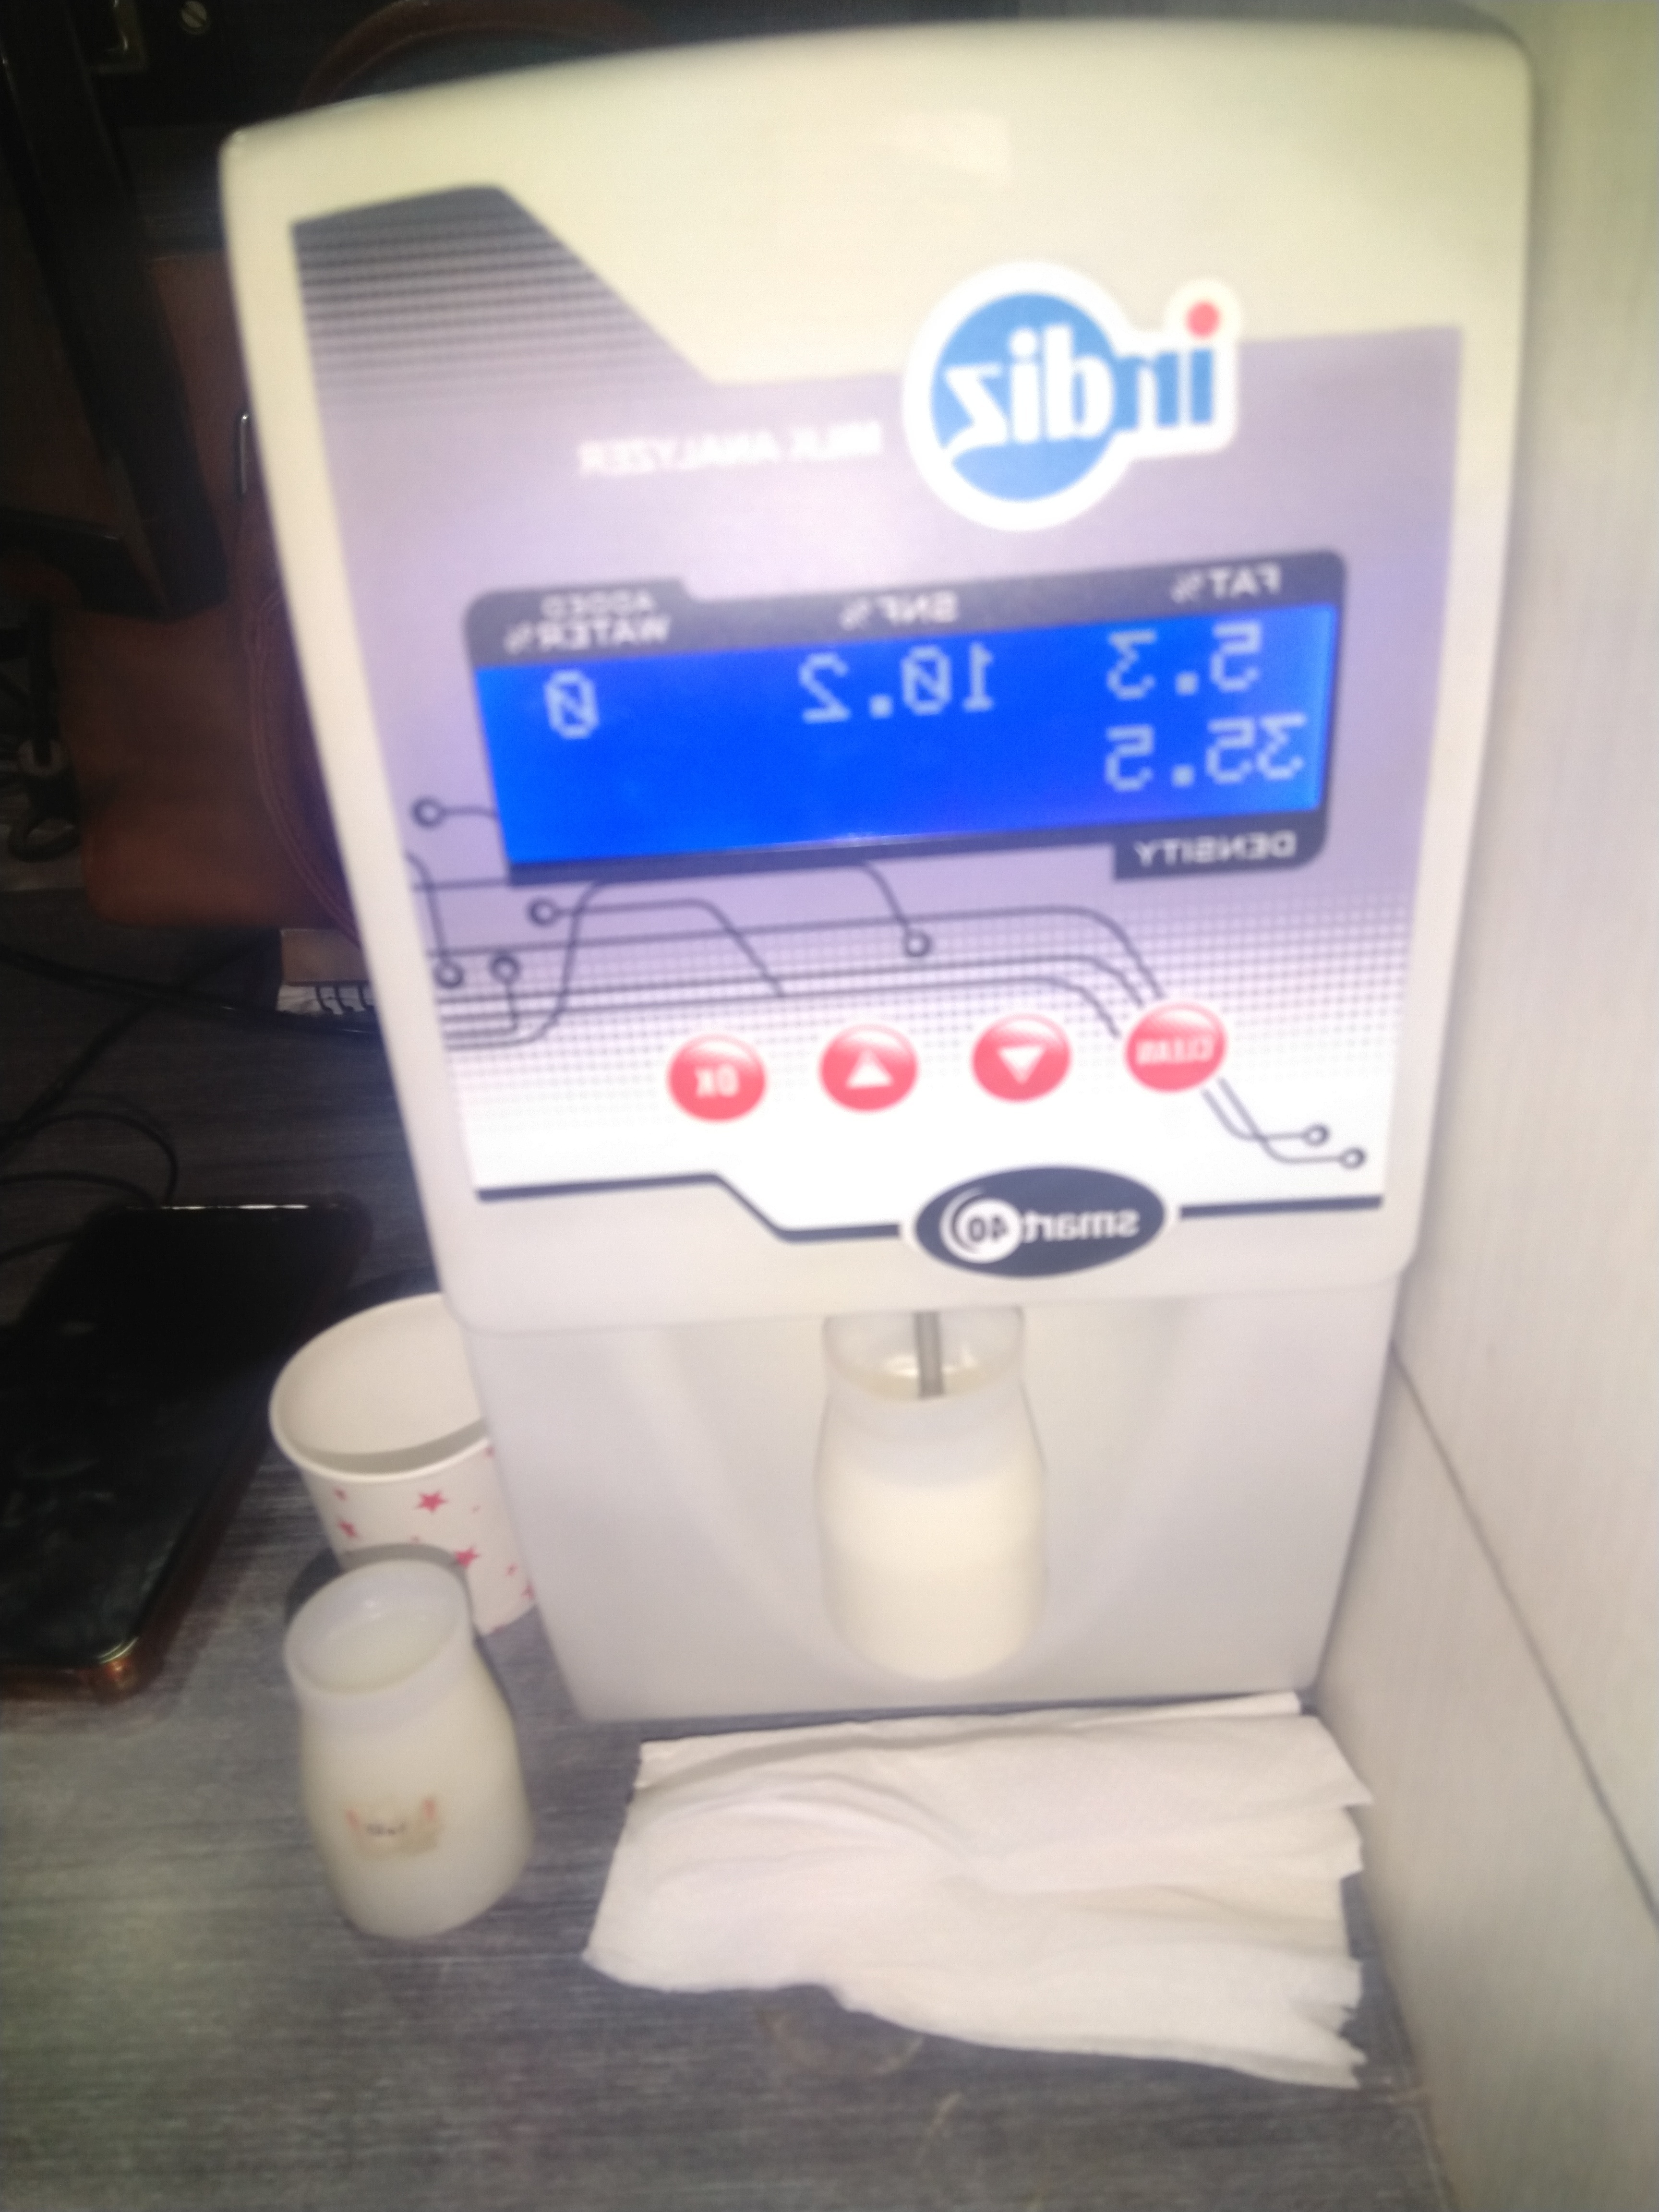lcd: (481, 594, 1352, 876)
